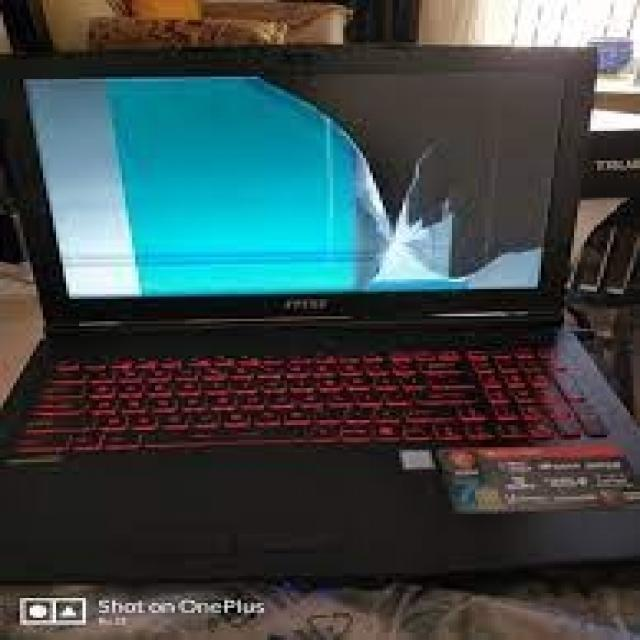Screen cracks: (260, 74, 552, 289)
